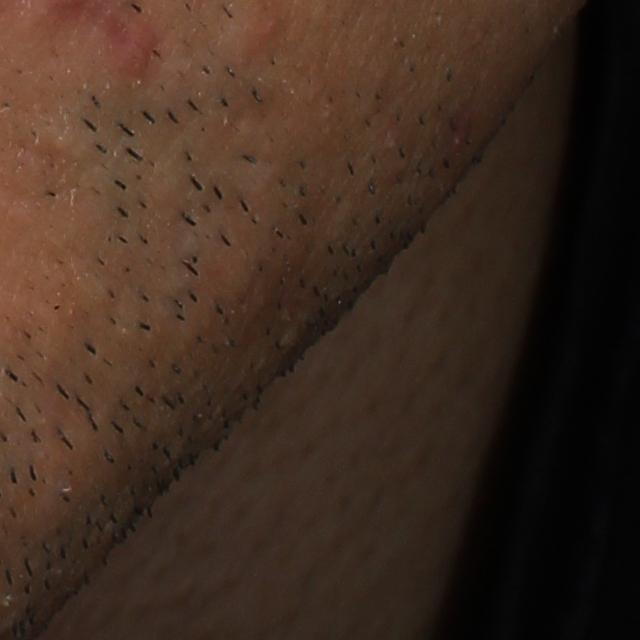papule: (103, 17, 164, 82)
